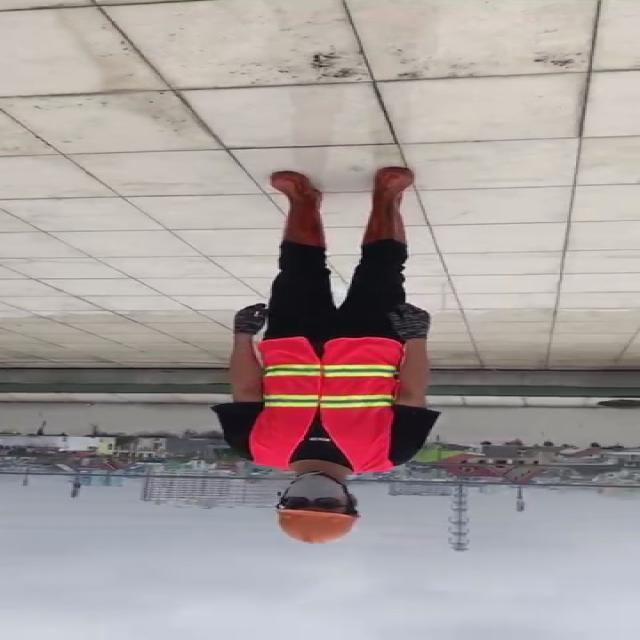gloves: (389, 302, 434, 342), (230, 302, 268, 334)
